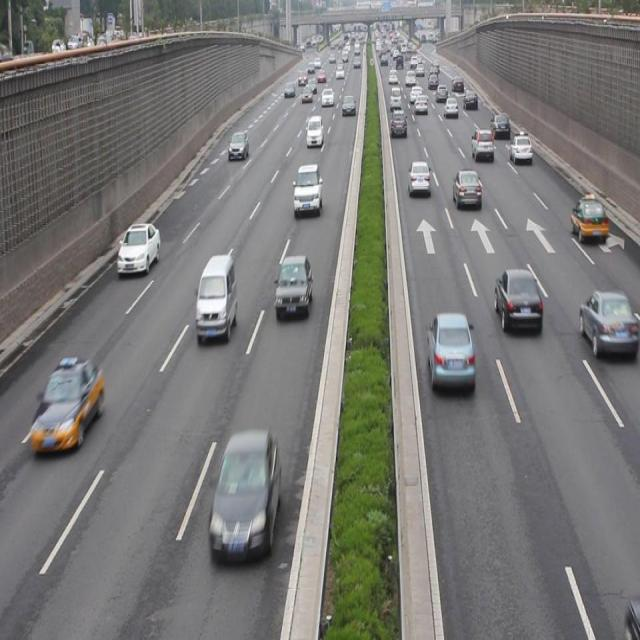car: (207, 429, 280, 562), (30, 358, 103, 456), (577, 288, 640, 360), (426, 311, 476, 391), (493, 264, 541, 336), (274, 254, 312, 320), (116, 220, 160, 275), (569, 194, 607, 244), (292, 165, 322, 217), (452, 167, 481, 210), (469, 127, 494, 163), (408, 158, 430, 196), (508, 131, 530, 162), (228, 130, 249, 160), (490, 111, 510, 139), (306, 115, 324, 146), (390, 108, 407, 137)
truck: (195, 255, 238, 342)
